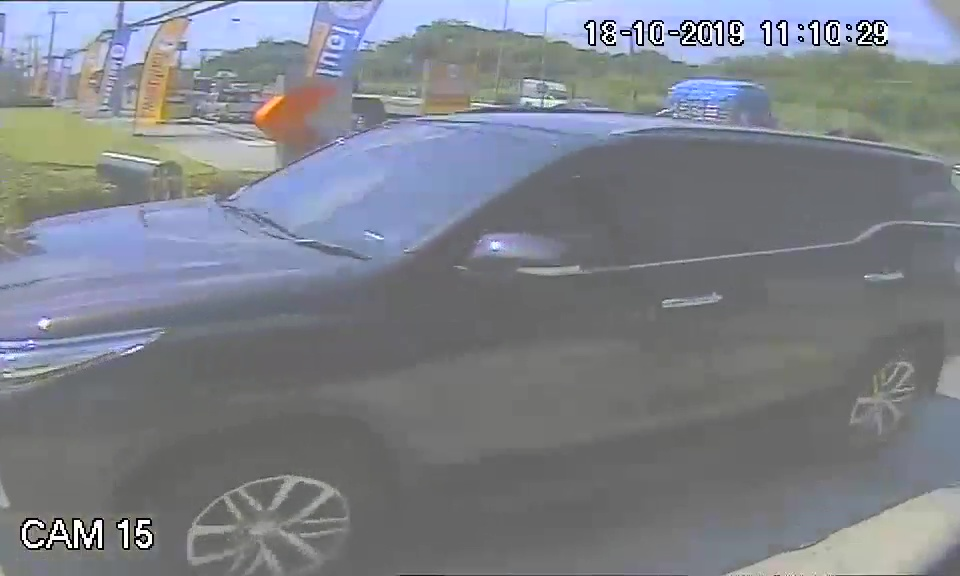pickup: (1, 107, 947, 514)
